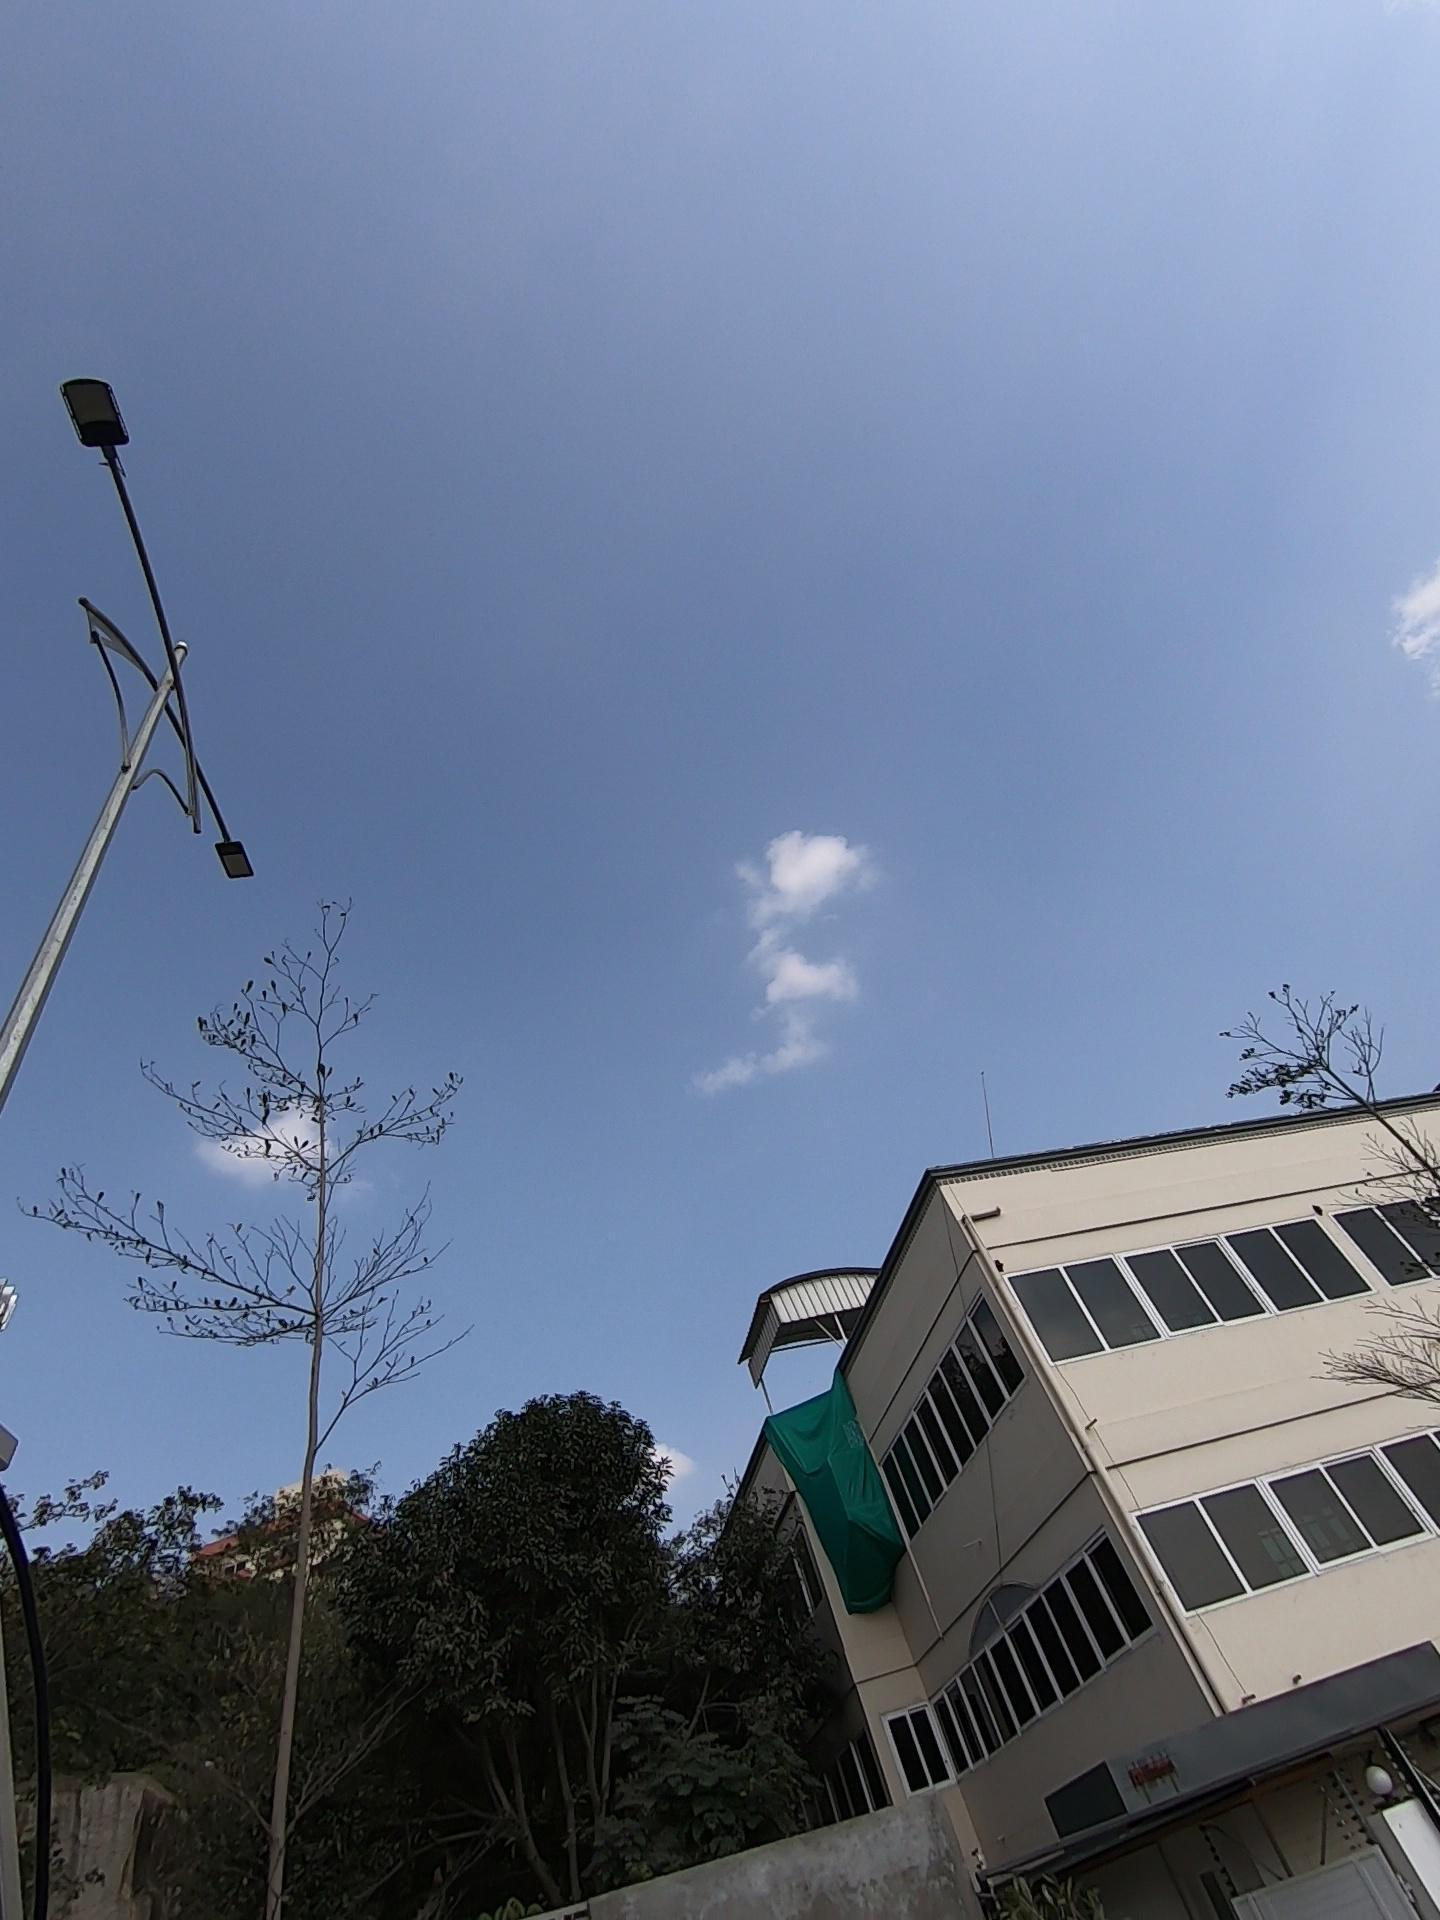off: (50, 311, 295, 907)
